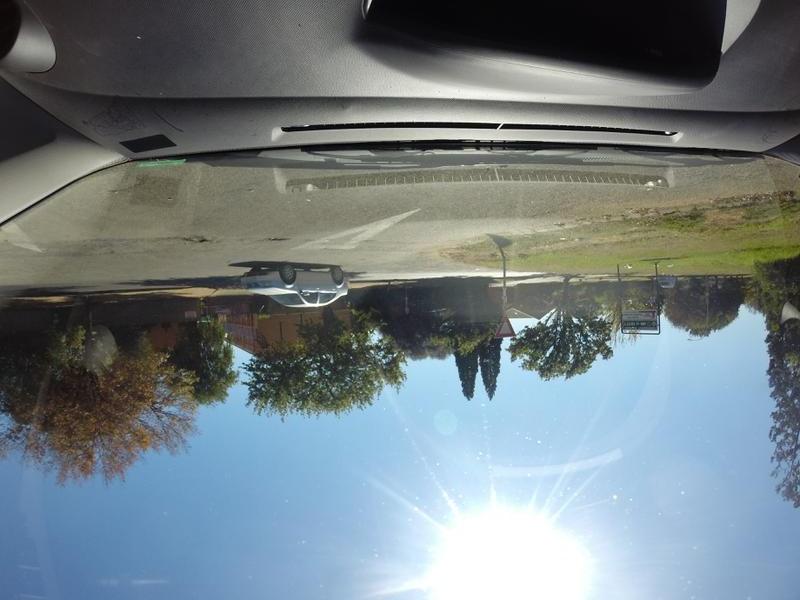pothole: (255, 235, 295, 245), (173, 235, 211, 245)
